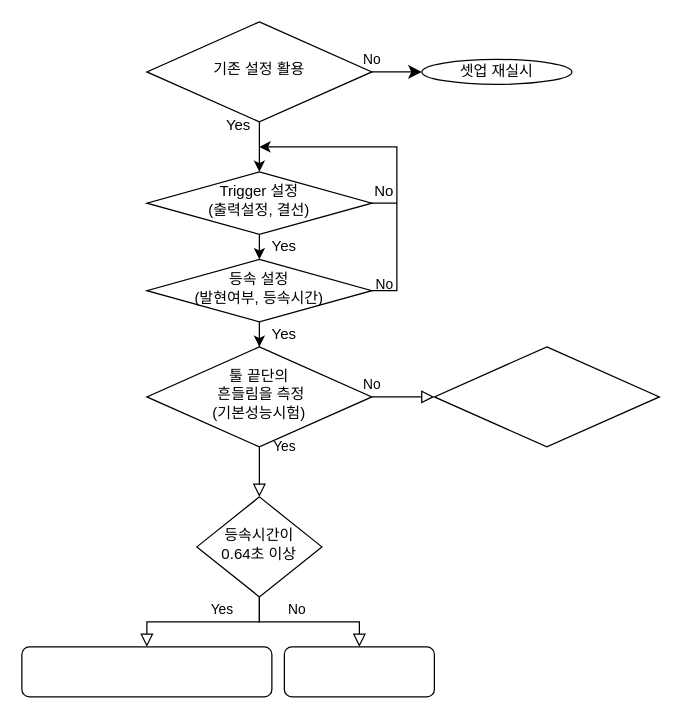
Image size: 681x719. Some labels were removed from this diagram. The centre of each missing label's shape, as x and y in pixels:
"GMF 측정용도" goes at [546,396].
"OfficialSetup_156hz_640ms_r1.shx사용" goes at [146,671].
"Repair Lamp" goes at [358,671].
